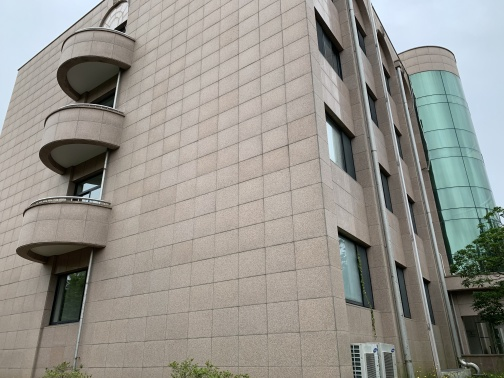Natural Science2: (7, 5, 428, 366), (295, 9, 501, 363), (11, 19, 180, 281)
